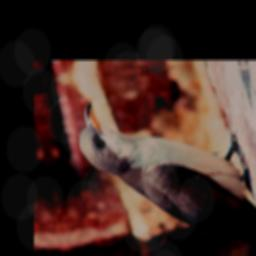Cuckoo: (71, 87, 256, 256)
